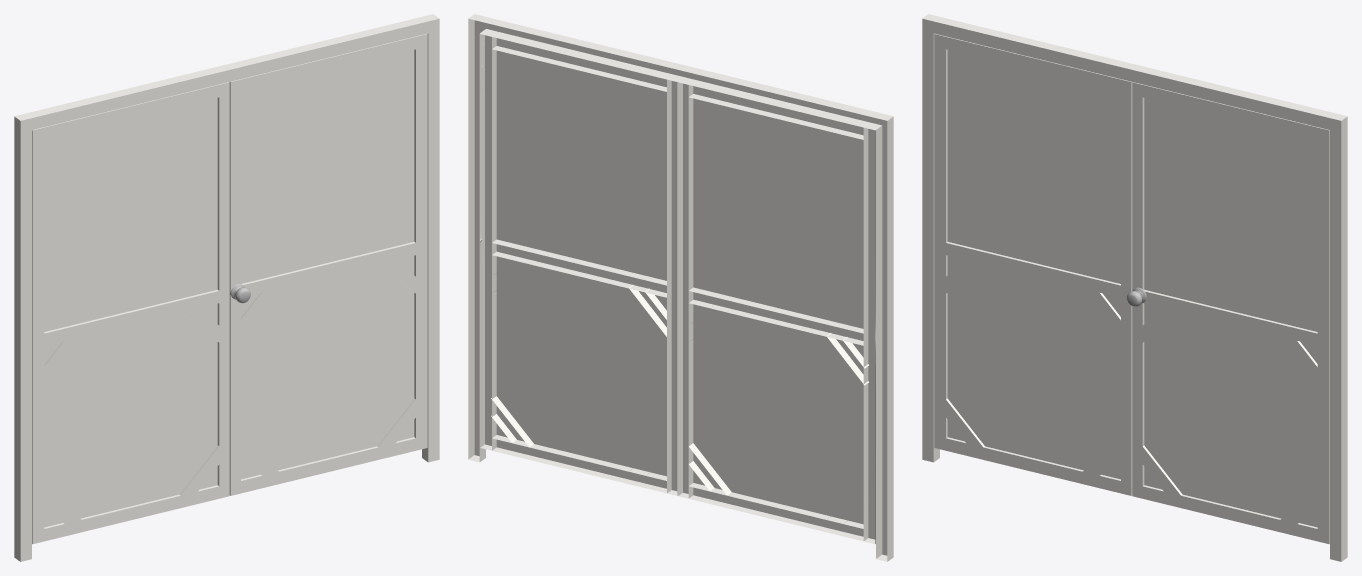
File: 6 ft smartside door.obj
The picture shows the model from 3 angles, left to right: view 1: azimuth 30°, elevation 25°; view 2: azimuth 150°, elevation 25°; view 3: azimuth 330°, elevation 25°; orthographic projection.
Parts seen in each view (by area): view 1: Door.005, Trim_Door_Frame.002; view 2: Door.005, Trim_Door_Frame.002; view 3: Door.005, Trim_Door_Frame.002.
Boxes of the visible parts, box(x1,y1,x2,y2) form: Door.005: box(44, 50, 414, 527); Trim_Door_Frame.002: box(14, 14, 439, 561); Door.005: box(468, 29, 887, 561); Trim_Door_Frame.002: box(468, 14, 893, 561); Door.005: box(947, 50, 1317, 527); Trim_Door_Frame.002: box(922, 14, 1347, 561).
Size of the model in its own units: 1.94 by 1.95 by 0.1088.
